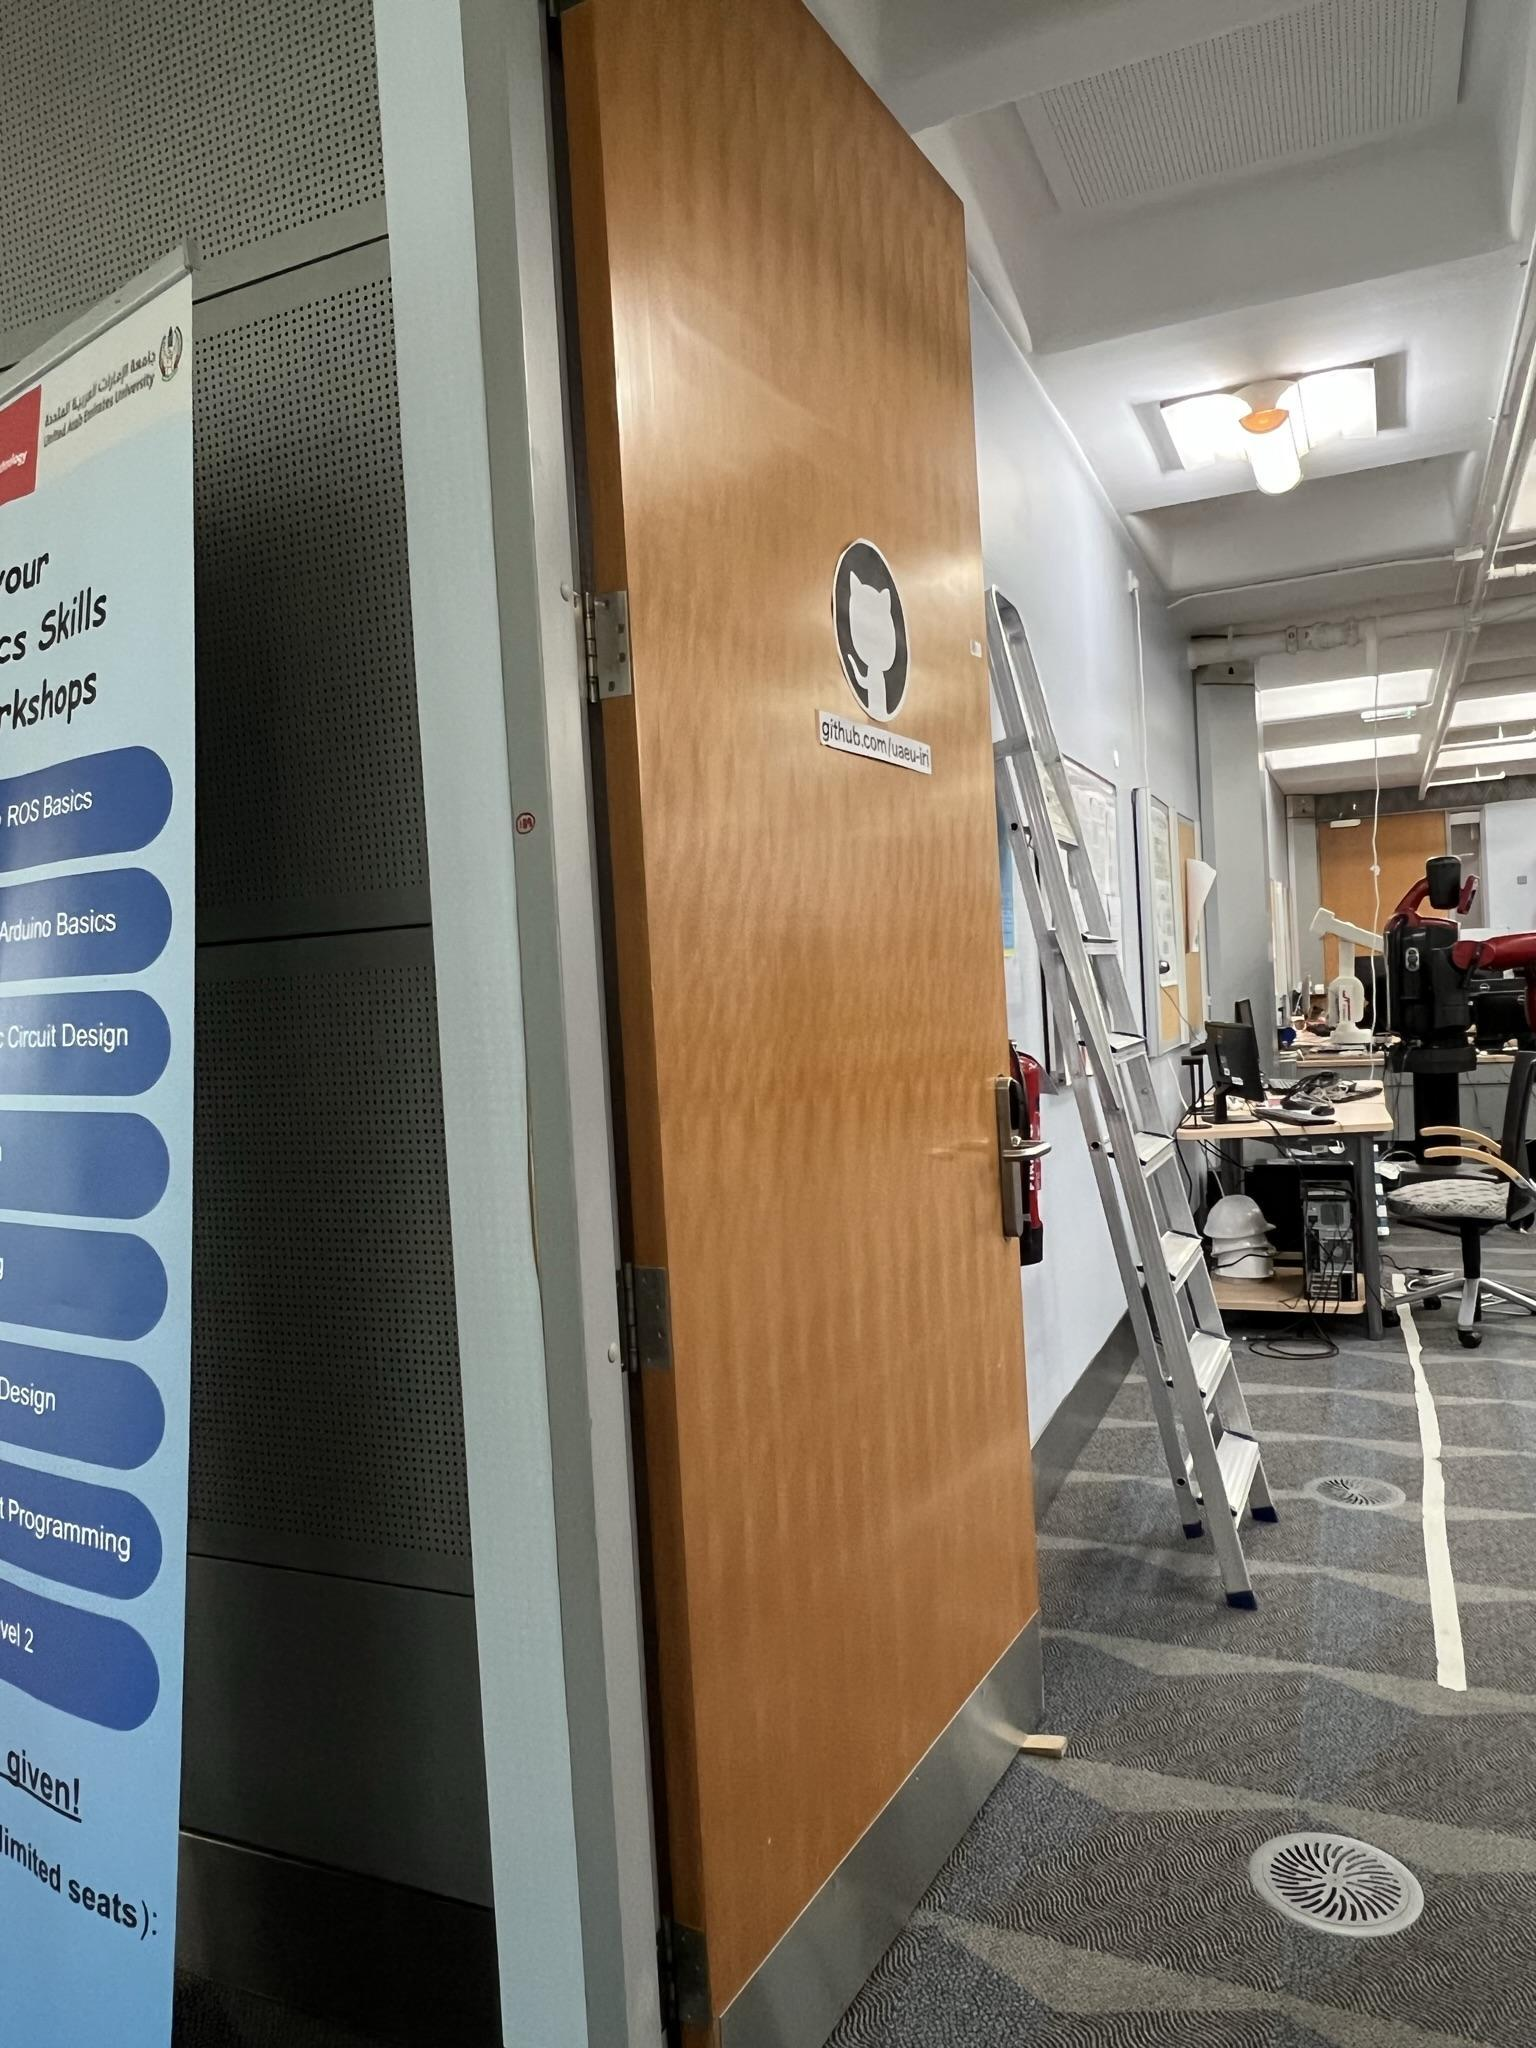door: (587, 0, 1062, 1983)
handle: (991, 1068, 1054, 1243)
